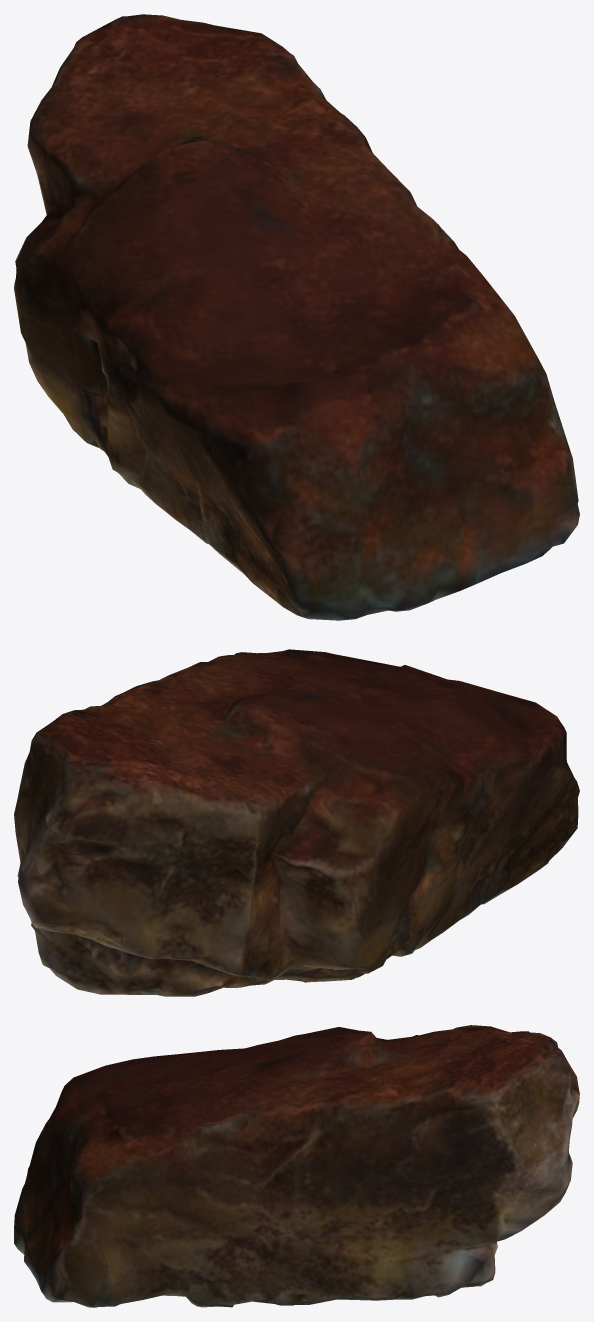
The model's file is rock_07.glb.
The picture shows the model from 3 angles, top to bottom: view 1: azimuth 30°, elevation 25°; view 2: azimuth 150°, elevation 25°; view 3: azimuth 270°, elevation 25°; orthographic projection. The views are drawn at different scales.
Parts seen in each view (by area): view 1: rock_07; view 2: rock_07; view 3: rock_07.
Part boxes in pixels (x1,y1,x2,y2): rock_07: [14, 14, 579, 620]; rock_07: [14, 649, 579, 996]; rock_07: [14, 1025, 579, 1307].
Size of the model in its own units: 0.1681 by 0.1437 by 0.3199.
1 material, 1 textured.
